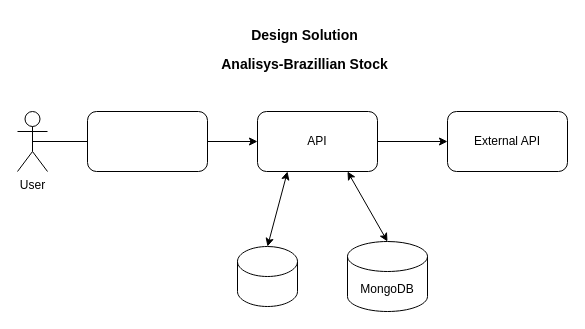
Some shapes in this 585 by 329 pixel diagram are drawn without their labels. Each missing label, with the centre of its shape:
App Web: point (147, 141)
Cache: point (267, 276)
